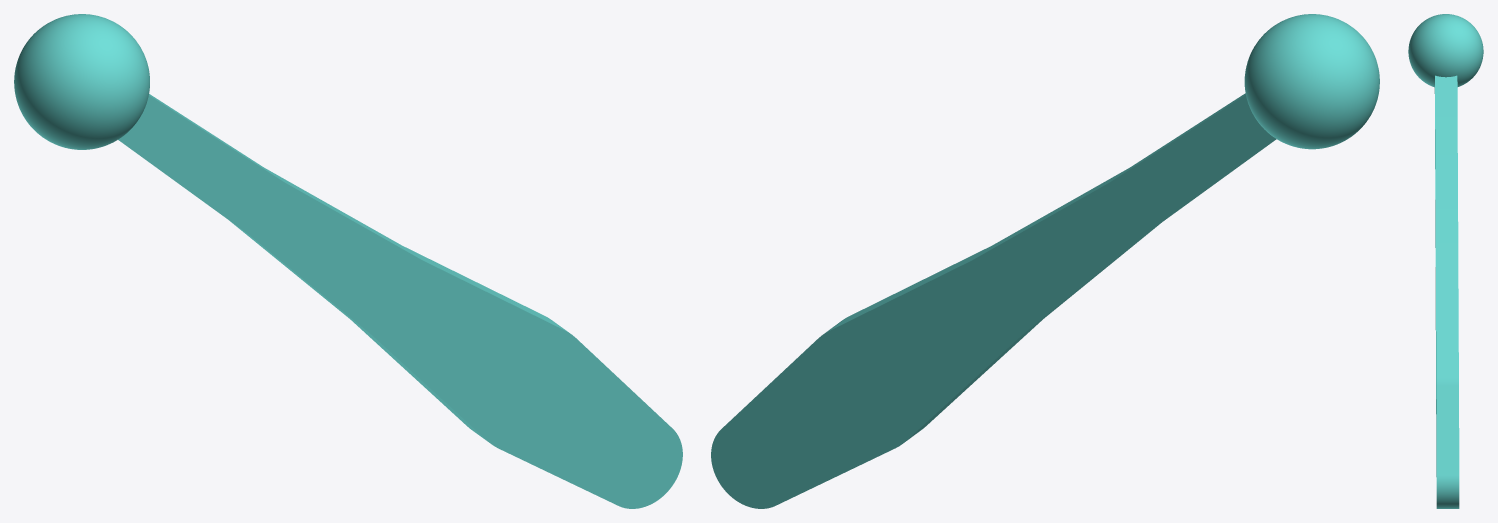
File: _MudPDoCUz0k_u1fjV.gltf
The picture shows the model from 3 angles, left to right: view 1: azimuth 30°, elevation 25°; view 2: azimuth 150°, elevation 25°; view 3: azimuth 270°, elevation 25°; orthographic projection. The views are drawn at different scales.
Parts seen in each view (by area): view 1: Tibula; view 2: Tibula; view 3: Tibula.
Part boxes in pixels (left/top/right/bottom): Tibula: left=14, top=14, right=682, bottom=508; Tibula: left=711, top=14, right=1379, bottom=508; Tibula: left=1408, top=14, right=1483, bottom=508.
Bounding box in the file's own units: 0.1106 × 0.0999 × 0.02.
